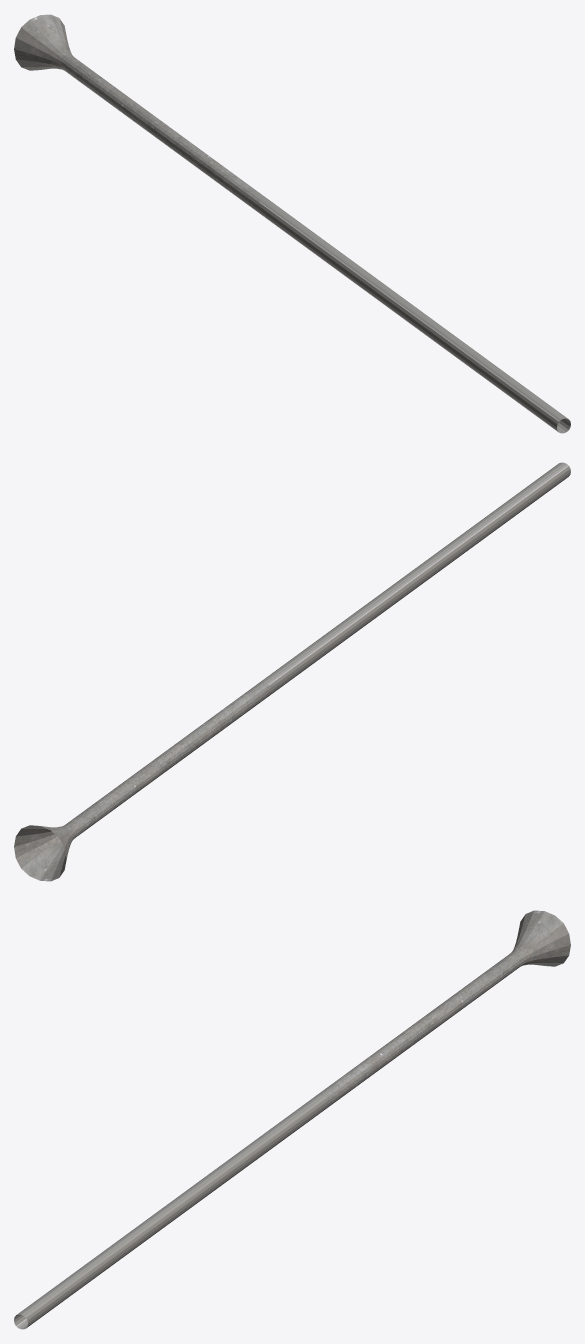
File: landing_tunnel2.glb
The picture shows the model from 3 angles, top to bottom: view 1: azimuth 30°, elevation 25°; view 2: azimuth 150°, elevation 25°; view 3: azimuth 330°, elevation 25°; orthographic projection.
Visible parts, largest first — view 1: Tunnel-col; view 2: Tunnel-col; view 3: Tunnel-col.
Boxes of the visible parts, x1,y1,x2,y2 form: Tunnel-col: (14, 14, 570, 433); Tunnel-col: (14, 462, 570, 881); Tunnel-col: (14, 910, 570, 1329).
Bounding box in the file's own units: 27.48 × 27.48 × 475.
1 material, 1 textured.
